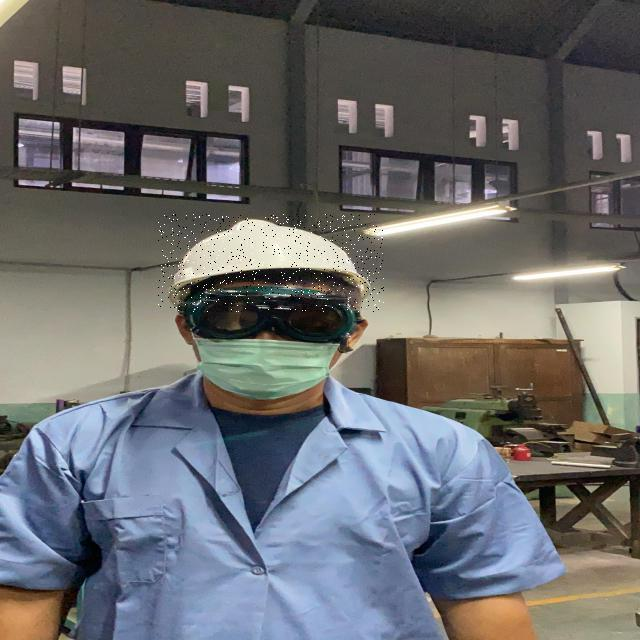helmet: (158, 215, 384, 312)
